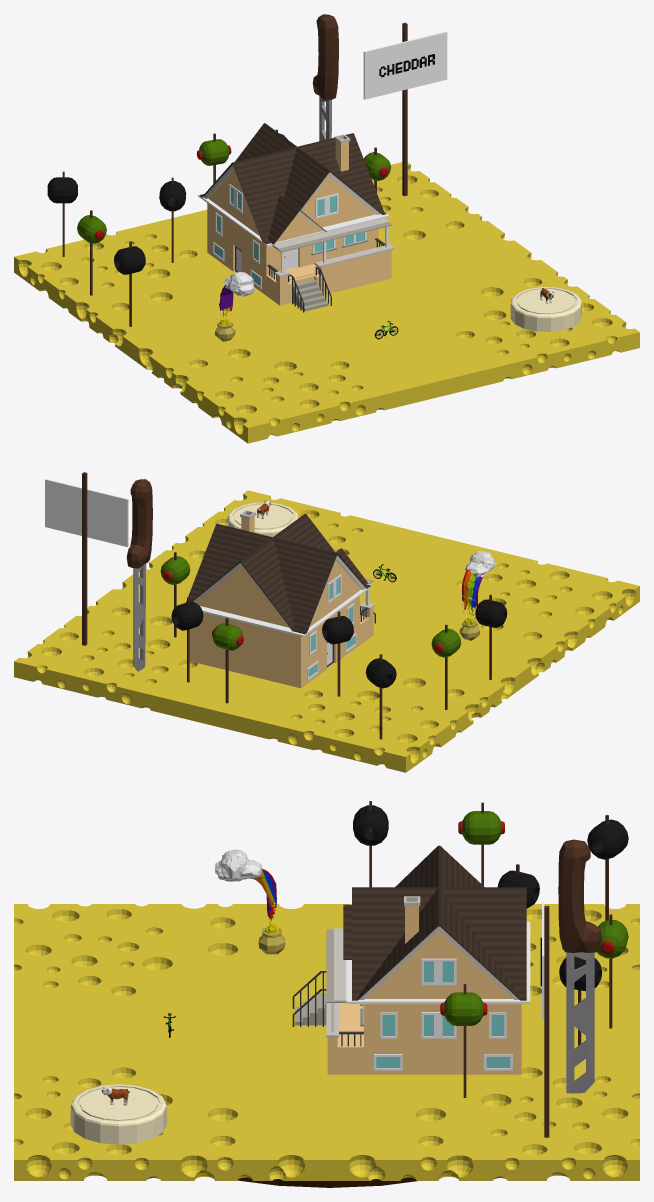
3 views of the same model, one above another, from view 1: azimuth 30°, elevation 25°; view 2: azimuth 150°, elevation 25°; view 3: azimuth 270°, elevation 25° (orthographic). The views are drawn at different scales.
Visible parts, largest first — view 1: Cube.022, Cube.235, Cube.023, Cylinder.016, Cube.024, OBJRANDOM_RAINBOW, Sphere.017, Sphere.016, Sphere.020, Sphere.018, Sphere.022, Sphere.019; view 2: Cube.022, Cube.235, Cube.023, Cube.024, OBJRANDOM_RAINBOW, Cylinder.016, Sphere.020, Sphere.016, Sphere.022, Sphere.017, Sphere.021, Sphere.018 (+1 smaller); view 3: Cube.022, Cube.235, Cube.024, Cylinder.016, OBJRANDOM_RAINBOW, Cube.023, Sphere.019, Sphere.016, Sphere.018, Sphere.017, Sphere.022, Cylinder (+2 smaller).
Boxes of the visible parts, box(x1,y1,x2,y2) form: Cube.022: box(14, 162, 639, 443); Cube.235: box(198, 123, 394, 312); Cube.023: box(363, 22, 447, 196); Cylinder.016: box(510, 287, 581, 331); Cube.024: box(312, 14, 338, 141); OBJRANDOM_RAINBOW: box(215, 272, 254, 341); Sphere.017: box(114, 241, 145, 326); Sphere.016: box(47, 171, 77, 256); Sphere.020: box(159, 177, 186, 262); Sphere.018: box(77, 210, 106, 295); Sphere.022: box(196, 133, 231, 183); Sphere.019: box(364, 147, 390, 192); Cube.022: box(14, 490, 639, 772); Cube.235: box(185, 510, 375, 688); Cube.023: box(45, 472, 128, 645); Cube.024: box(126, 479, 152, 671); OBJRANDOM_RAINBOW: box(459, 551, 495, 640); Cylinder.016: box(227, 502, 298, 537); Sphere.020: box(322, 611, 353, 696); Sphere.016: box(365, 654, 396, 739); Sphere.022: box(212, 618, 243, 703); Sphere.017: box(475, 594, 507, 679); Sphere.021: box(171, 597, 203, 682); Sphere.018: box(431, 624, 461, 709); Cube.022: box(14, 904, 639, 1180); Cube.235: box(292, 845, 530, 1074); Cube.024: box(558, 839, 601, 1093); Cylinder.016: box(70, 1084, 166, 1144); OBJRANDOM_RAINBOW: box(215, 849, 285, 954); Cube.023: box(540, 902, 549, 1137); Sphere.019: box(440, 984, 487, 1097); Sphere.016: box(587, 815, 628, 920); Sphere.018: box(458, 802, 504, 885); Sphere.017: box(353, 801, 388, 887); Sphere.022: box(597, 914, 628, 1028); Cylinder: box(237, 1177, 417, 1187).
Bounding box in the file's own units: 3917 × 2073 × 4000.
Materials: 45 (3 with a texture image).
